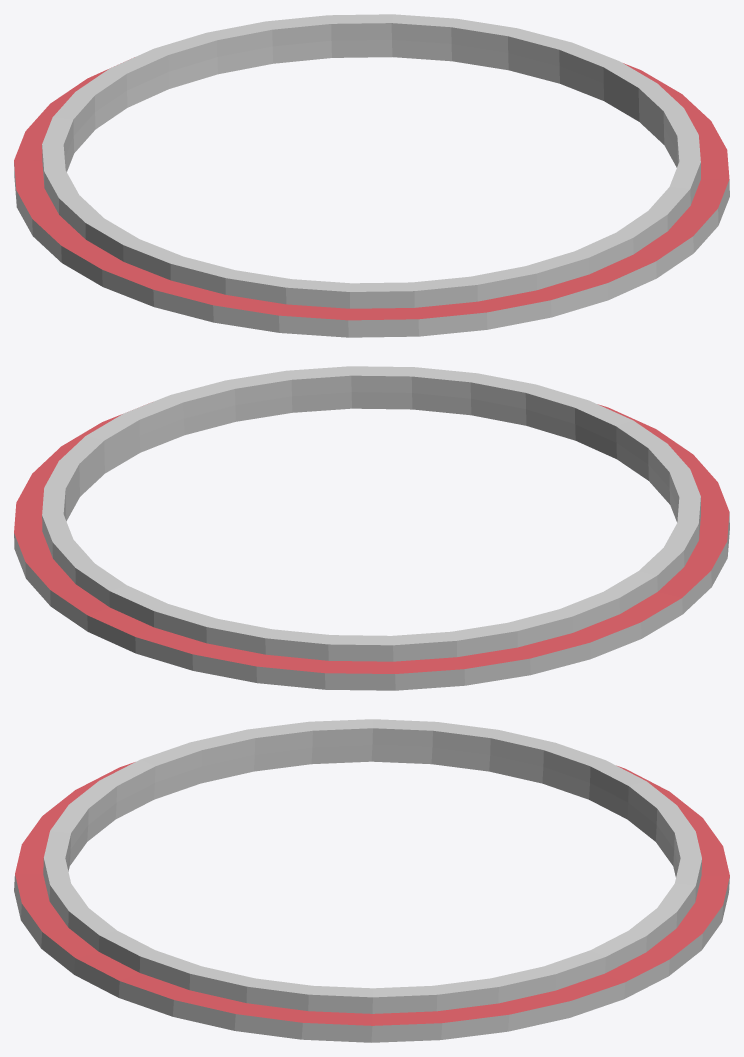
Rendered from LightUnderhangFBX.fbx.
3 views of the same model, one above another, from view 1: azimuth 30°, elevation 25°; view 2: azimuth 150°, elevation 25°; view 3: azimuth 270°, elevation 25° (orthographic).
Parts seen in each view (by area): view 1: Dome.001; view 2: Dome.001; view 3: Dome.001.
Boxes of the visible parts, bbox=[...] form: Dome.001: bbox=[14, 14, 729, 337]; Dome.001: bbox=[14, 366, 729, 690]; Dome.001: bbox=[14, 719, 729, 1042].
Bounding box in the file's own units: 1459 × 78.12 × 1457.
